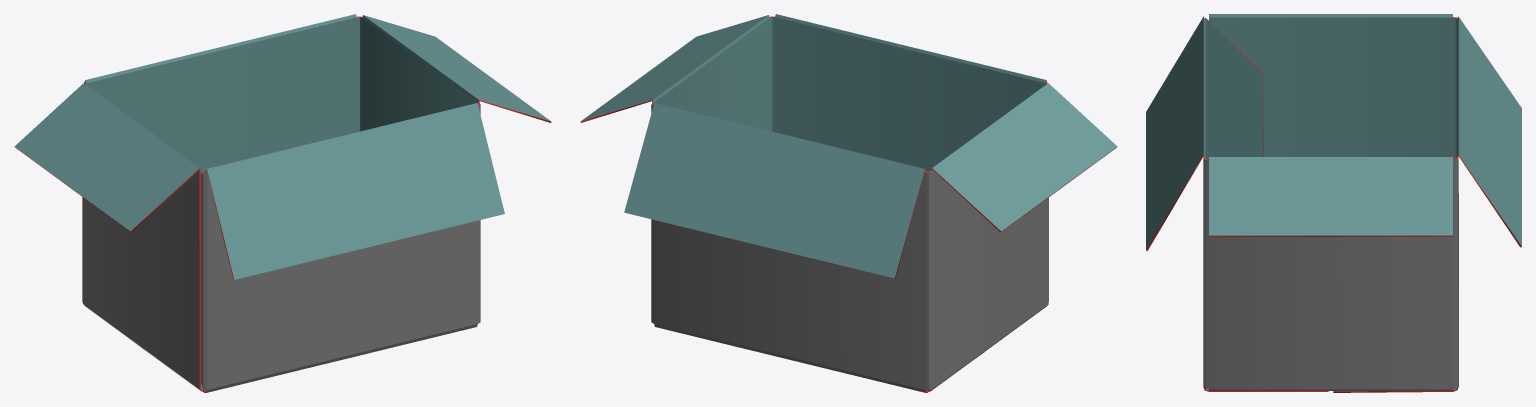
Rendered from Cardboard Box.fbx.
3 views of the same model, side by side, from view 1: azimuth 30°, elevation 25°; view 2: azimuth 150°, elevation 25°; view 3: azimuth 270°, elevation 25° (orthographic). The views are drawn at different scales.
Parts seen in each view (by area): view 1: Box New UVMap; view 2: Box New UVMap; view 3: Box New UVMap.
Part boxes in pixels (x1,y1,x2,y2): Box New UVMap: (14, 14, 551, 392); Box New UVMap: (580, 14, 1117, 392); Box New UVMap: (1146, 14, 1521, 392).
Size of the model in its own units: 23.89 by 12.3 by 17.59.
